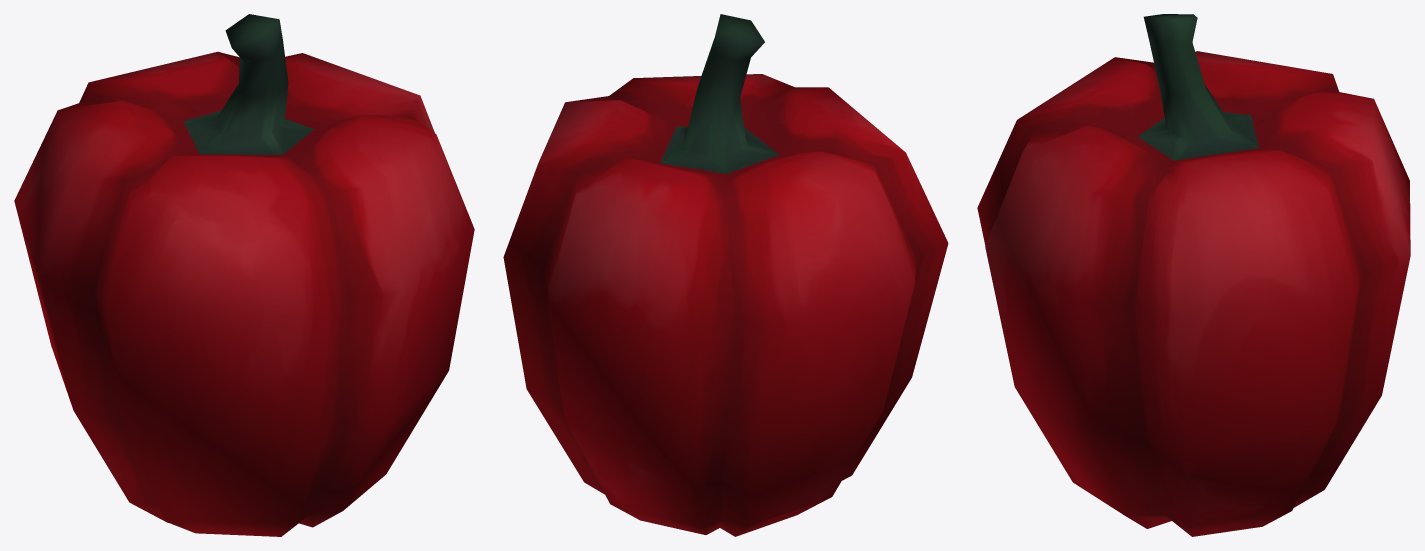
Rendered from paprika.fbx.
3 renders of one model, left to right at view 1: azimuth 30°, elevation 25°; view 2: azimuth 150°, elevation 25°; view 3: azimuth 270°, elevation 25°, orthographic. The views are drawn at different scales.
Parts seen in each view (by area): view 1: paprika; view 2: paprika; view 3: paprika.
Part boxes in pixels (x1,y1,x2,y2): paprika: (14, 14, 474, 536); paprika: (503, 14, 948, 536); paprika: (977, 14, 1410, 536).
Size of the model in its own units: 2.33 by 2.7 by 2.19.
